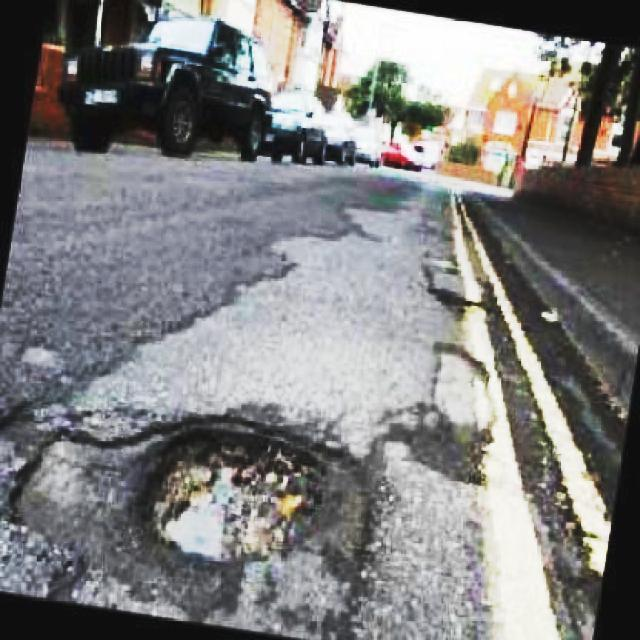pothole: (129, 420, 346, 574)
